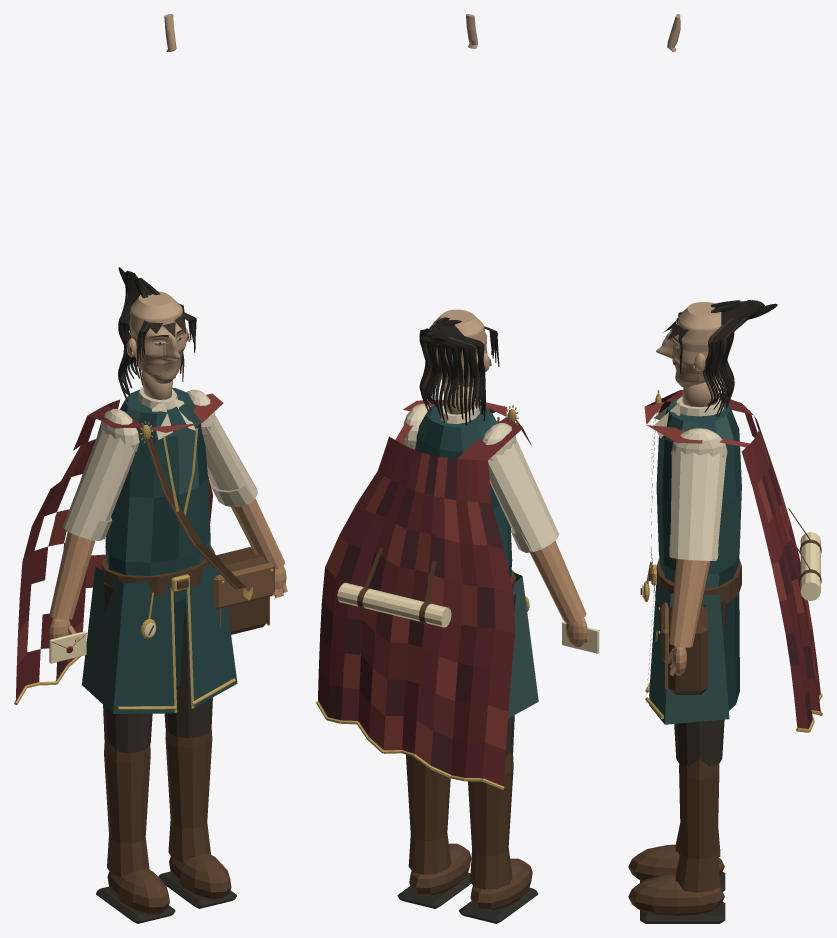
Rendered from courier.glb.
The picture shows the model from 3 angles, left to right: view 1: azimuth 30°, elevation 25°; view 2: azimuth 150°, elevation 25°; view 3: azimuth 270°, elevation 25°; orthographic projection.
Parts seen in each view (by area): view 1: Waistcoat, Split_coat_R, Cloak_folds, Boot_shaft_R, Boot_shaft_L, Split_coat_L, Linen_sleeve_R, Face, Forearm_R, Trouser_thigh_L, Linen_sleeve_L, Boot_toe_L (+14 smaller); view 2: Cloak_folds, Boot_shaft_R, Boot_shaft_L, Linen_sleeve_R, Waistcoat, Split_coat_R, Map_roll, Forearm_R, Boot_toe_L, Boot_toe_R, Face, Boot_sole_R (+2 smaller); view 3: Cloak_folds, Waistcoat, Linen_sleeve_L, Boot_shaft_L, Split_coat_L, Face, Boot_toe_L, Forearm_L, Trouser_thigh_L, Messenger_satchel, Back_coat, Boot_toe_R (+8 smaller).
Part boxes in pixels (x1,y1,x2,y2): Waistcoat: (105,388,210,601); Split_coat_R: (82,566,174,713); Cloak_folds: (15,393,223,701); Boot_shaft_R: (104,738,150,877); Boot_shaft_L: (165,726,212,862); Split_coat_L: (185,554,237,709); Linen_sleeve_R: (63,426,137,540); Face: (129,291,186,383); Forearm_R: (49,531,95,619); Trouser_thigh_L: (164,599,212,738); Linen_sleeve_L: (203,415,257,506); Boot_toe_L: (169,853,231,900); Cloak_folds: (318,399,531,786); Boot_shaft_R: (468,751,513,889); Boot_shaft_L: (406,754,451,874); Linen_sleeve_R: (488,439,559,552); Waistcoat: (415,402,512,577); Split_coat_R: (508,572,538,718); Map_roll: (337,582,451,627); Forearm_R: (530,540,586,622); Boot_toe_L: (409,843,471,895); Boot_toe_R: (470,858,532,910); Face: (432,309,487,387); Boot_sole_R: (459,887,538,923); Cloak_folds: (644,390,820,729); Waistcoat: (656,396,741,588); Linen_sleeve_L: (670,450,726,560); Boot_shaft_L: (675,759,720,892); Split_coat_L: (649,572,729,724); Face: (656,302,721,387); Boot_toe_L: (628,874,724,915); Forearm_L: (669,559,710,647); Trouser_thigh_L: (674,599,727,767); Messenger_satchel: (668,604,707,694); Back_coat: (722,593,739,710); Boot_toe_R: (628,844,724,881).
Bounding box in the file's own units: 0.7395 × 2.59 × 0.5149.
